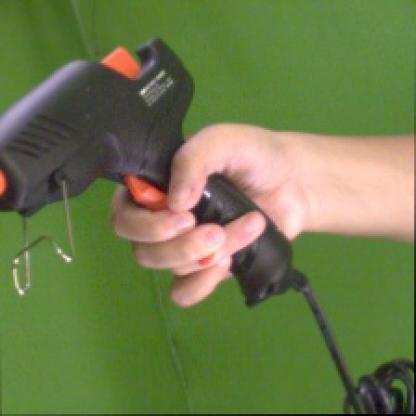Hand: (111, 122, 309, 307)
